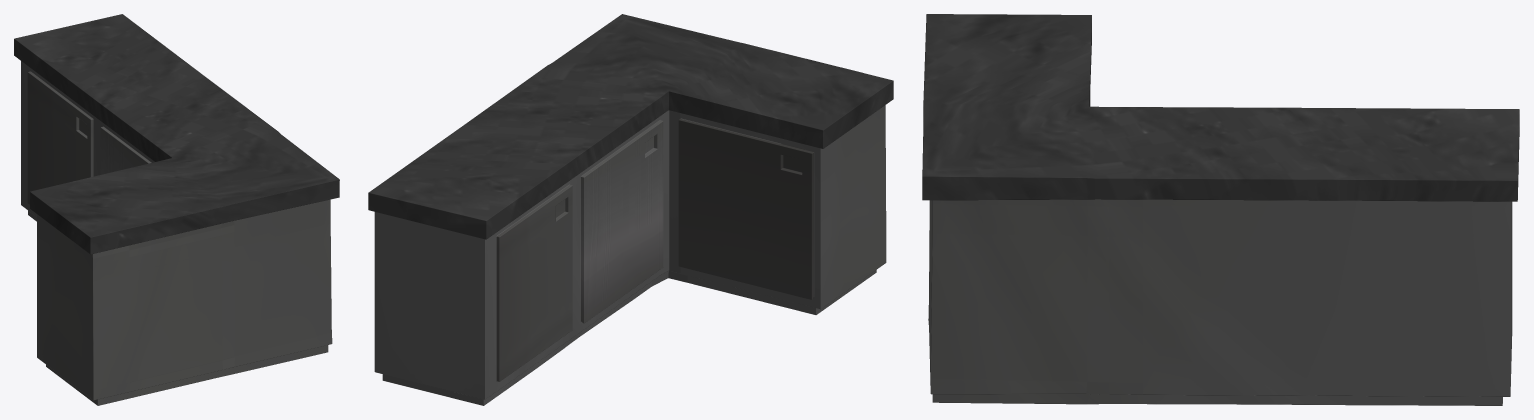
The model's file is Plan_de_travail_01.fbx.
3 views of the same model, side by side, from view 1: azimuth 30°, elevation 25°; view 2: azimuth 150°, elevation 25°; view 3: azimuth 270°, elevation 25° (orthographic). The views are drawn at different scales.
Parts seen in each view (by area): view 1: plan_de_travail:plan_de_travail; view 2: plan_de_travail:plan_de_travail; view 3: plan_de_travail:plan_de_travail.
Part boxes in pixels (<box>): plan_de_travail:plan_de_travail: <box>14,14,339,405</box>; plan_de_travail:plan_de_travail: <box>368,14,893,405</box>; plan_de_travail:plan_de_travail: <box>922,14,1519,405</box>.
Bounding box in the file's own units: 230 × 151 × 351.
2 materials, 2 textured.
